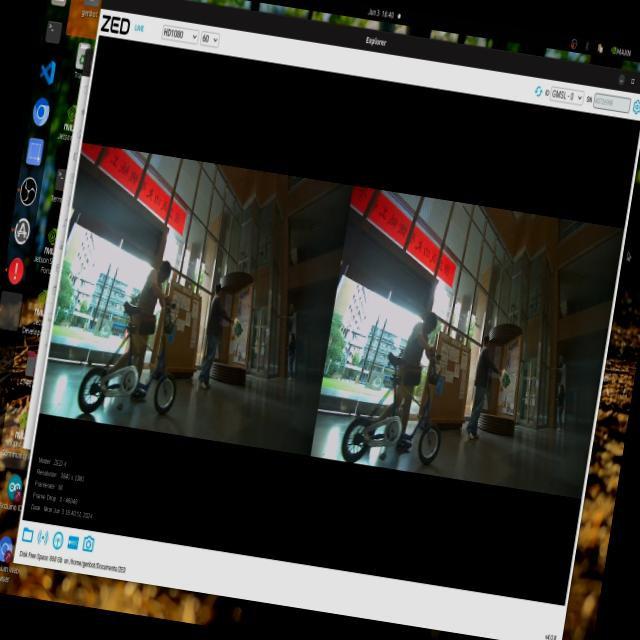green: (494, 370, 515, 400), (229, 317, 249, 348)
